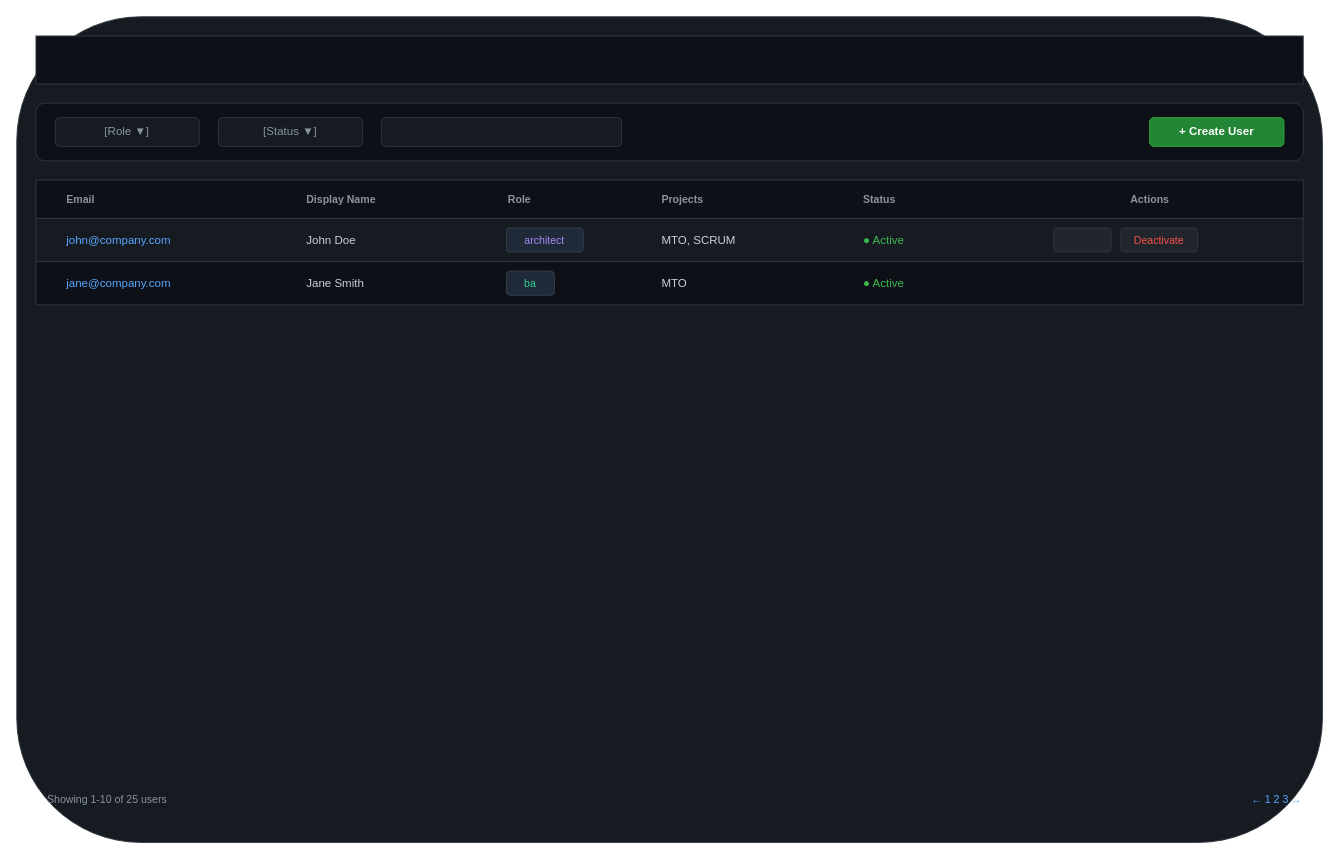
Some shapes in this 1339 by 859 pixel diagram are drawn without their labels. Here are the shapes that lost their labels. From the top down, the centre of each, then its label:
point 669,59: Admin — User Management
point 501,131: 🔍 Search users...
point 1082,239: Edit
